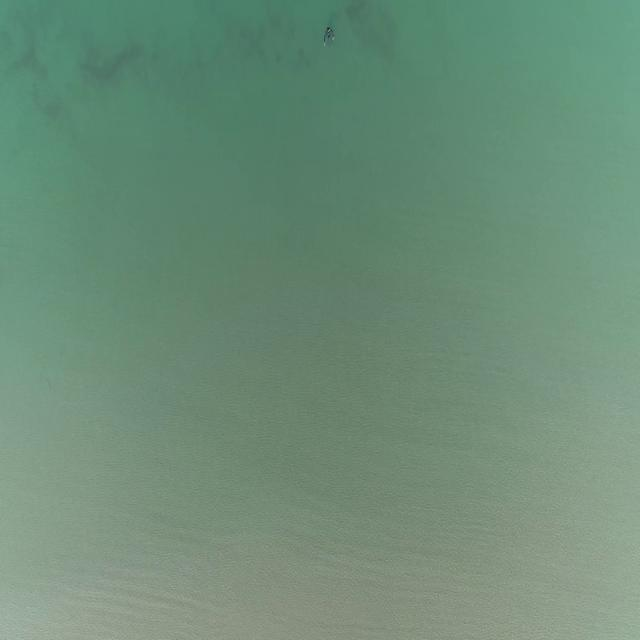person: (323, 25, 336, 45)
